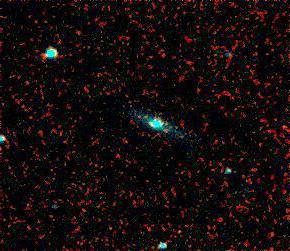star: (64, 18, 94, 48)
